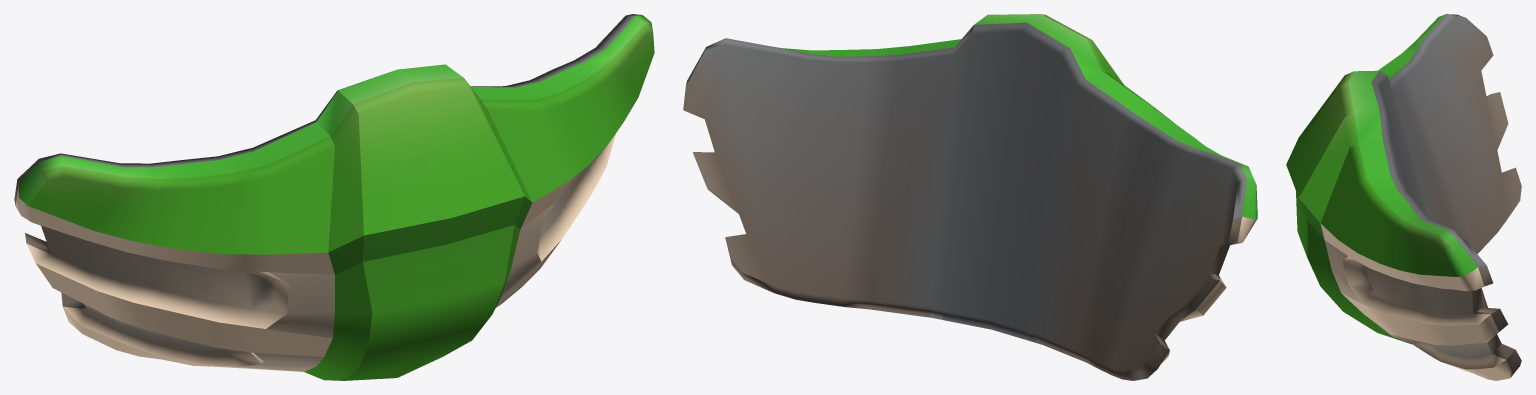
The model's file is Mask_Wrestler_Green.gltf.
3 renders of one model, left to right at view 1: azimuth 30°, elevation 25°; view 2: azimuth 150°, elevation 25°; view 3: azimuth 270°, elevation 25°, orthographic. The views are drawn at different scales.
Parts seen in each view (by area): view 1: Mask_Wrestler_Green; view 2: Mask_Wrestler_Green; view 3: Mask_Wrestler_Green.
Boxes of the visible parts, left/top/right/bottom form: Mask_Wrestler_Green: left=14, top=14, right=654, bottom=380; Mask_Wrestler_Green: left=683, top=14, right=1257, bottom=380; Mask_Wrestler_Green: left=1286, top=14, right=1521, bottom=380.
Bounding box in the file's own units: 0.8341 × 0.4082 × 0.3502.
2 materials, 2 textured.
